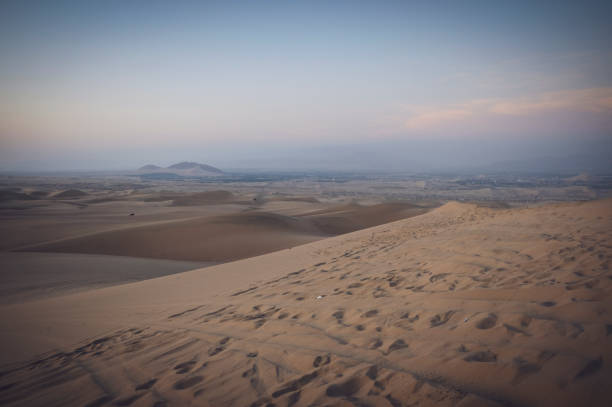human_foot_print: (154, 216, 583, 397)
